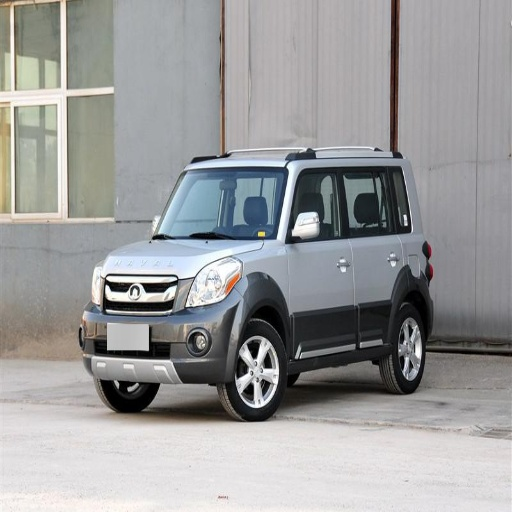front_bumper: (80, 270, 247, 385)
front_glass: (152, 169, 287, 238)
front_left_door: (285, 168, 356, 353)
